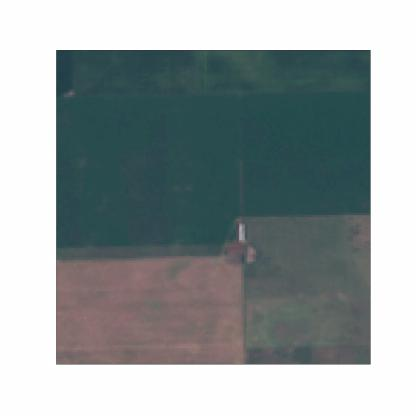silobolsa: (236, 221, 248, 246)
